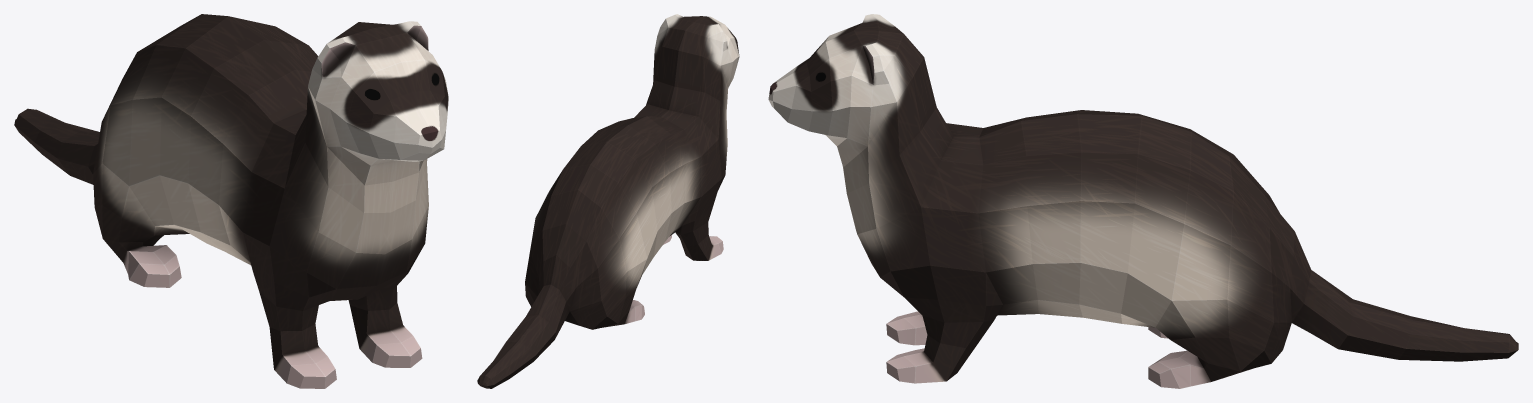
The model's file is Ferret.obj.
The picture shows the model from 3 angles, left to right: view 1: azimuth 30°, elevation 25°; view 2: azimuth 150°, elevation 25°; view 3: azimuth 270°, elevation 25°; orthographic projection. The views are drawn at different scales.
Visible parts, largest first — view 1: Ferret_Mesh; view 2: Ferret_Mesh; view 3: Ferret_Mesh.
Boxes of the visible parts, <box> form: Ferret_Mesh: <box>14,14,448,388</box>; Ferret_Mesh: <box>477,14,739,388</box>; Ferret_Mesh: <box>768,14,1518,388</box>.
Size of the model in its own units: 1.03 by 2.13 by 4.41.
Materials: 1 (1 with a texture image).
